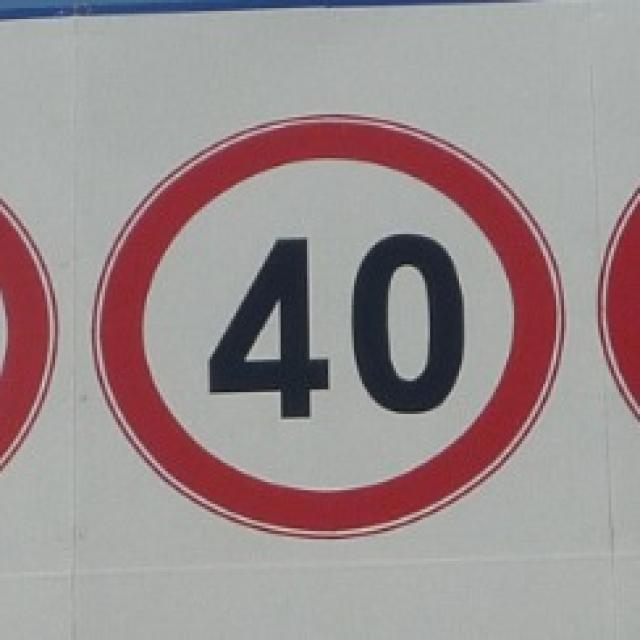Speed Limit -40-: (201, 226, 469, 426)
